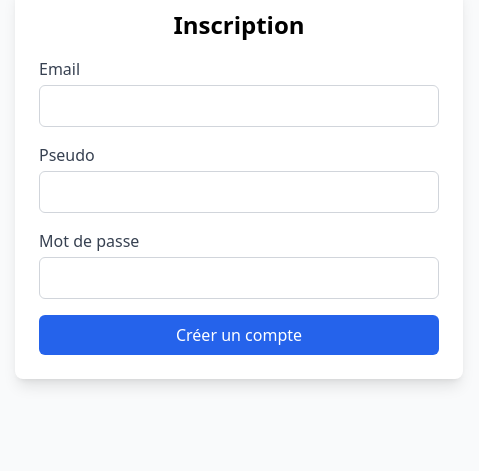
Scenario: Register Page › inscrit un nouvel utilisateur avec succès
Type "newuser@example.com" into the field labelled "Email".
click(239, 106); type("newuser@example.com")  # box [39,85,439,127]
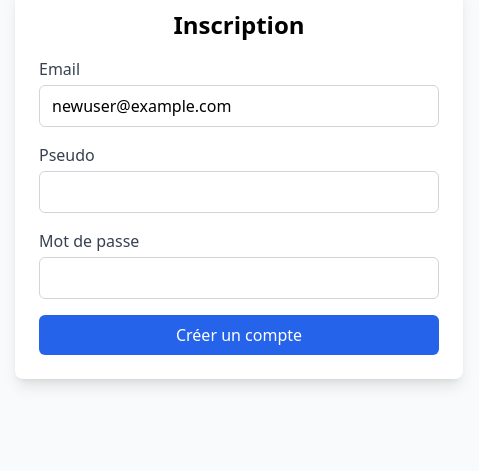
Type "newUser" into the field labelled "Pseudo".
click(239, 192); type("newUser")  # box [39,171,439,213]
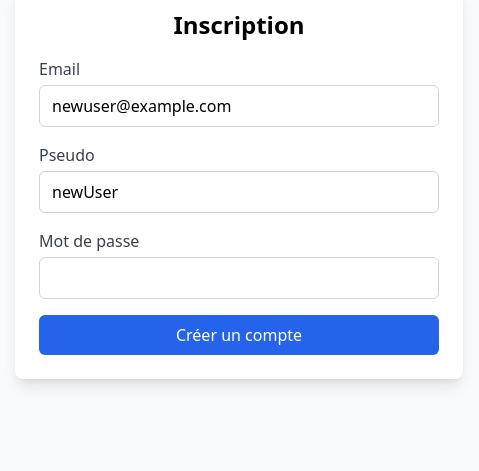
Type "password123" into the password field labelled "Mot de passe".
click(239, 278); type("password123")  # box [39,257,439,299]
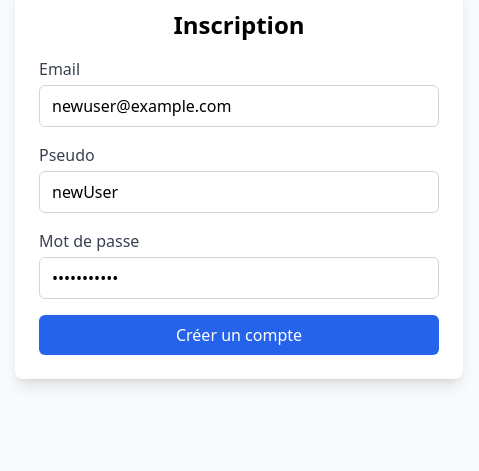
Click the button "Créer un compte".
click(239, 335)  # box [39,315,439,355]
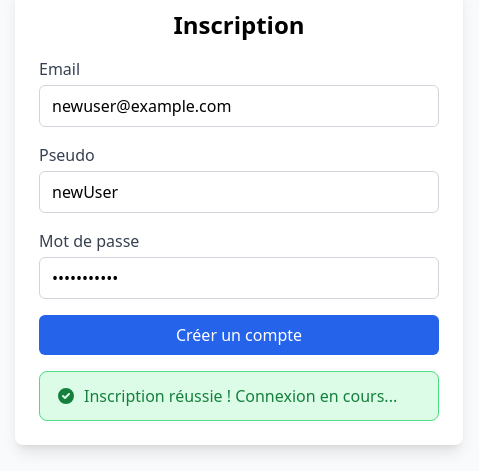
Now the text "Inscription réussie ! Connexion en cours..." is shown, box [56,384,422,408]
